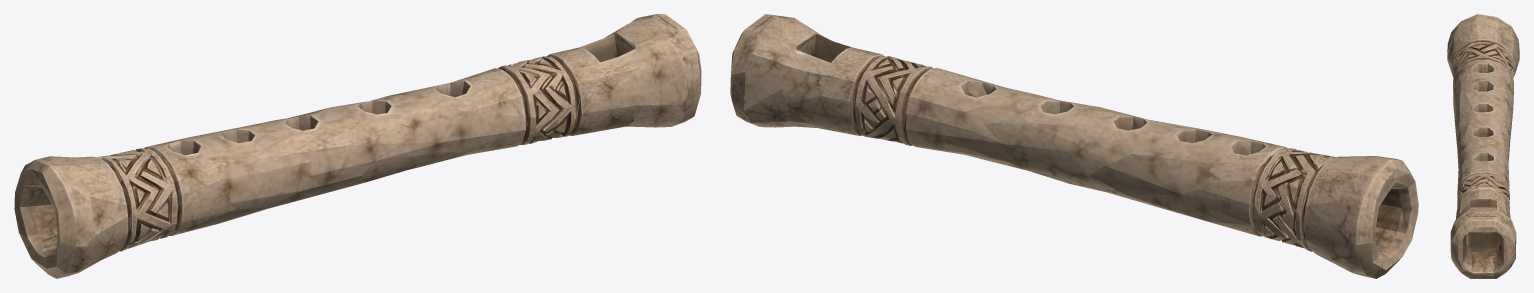
File: wedding-flute.glb
3 views of the same model, side by side, from view 1: azimuth 30°, elevation 25°; view 2: azimuth 150°, elevation 25°; view 3: azimuth 270°, elevation 25° (orthographic). The views are drawn at different scales.
Visible parts, largest first — view 1: output_unwrapped; view 2: output_unwrapped; view 3: output_unwrapped.
Part boxes in pixels (x1,y1,x2,y2): output_unwrapped: (14, 14, 701, 278); output_unwrapped: (730, 14, 1418, 278); output_unwrapped: (1447, 14, 1519, 278).
Size of the model in its own units: 1.8 by 0.3 by 0.2721.
Materials: 1 (1 with a texture image).
